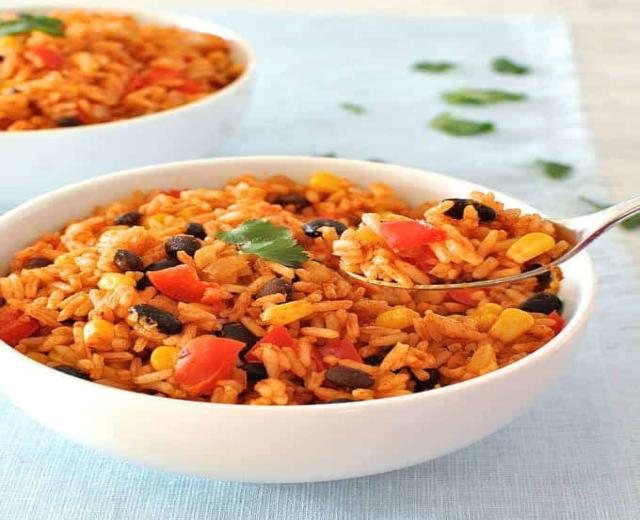fried rice: (1, 7, 611, 484), (563, 0, 638, 203)
